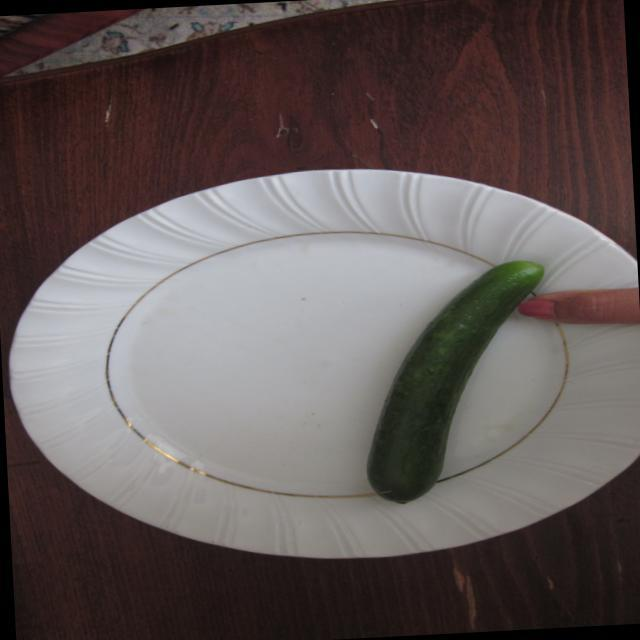Cucumber: (332, 255, 560, 514)
Finger: (512, 284, 614, 331)
